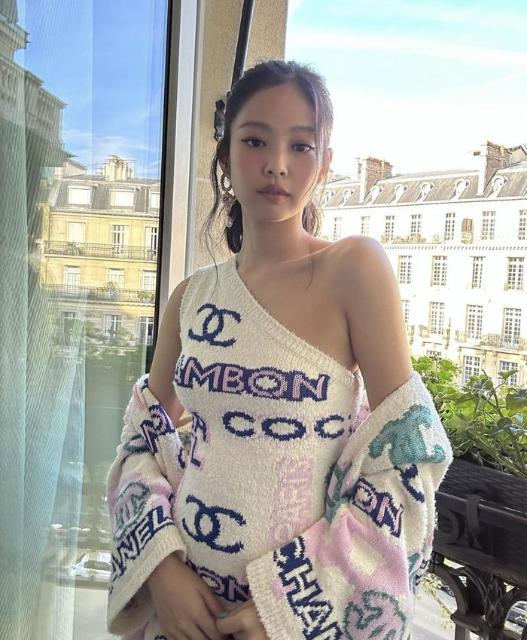Chanel: (177, 482, 257, 560), (182, 294, 247, 354)
